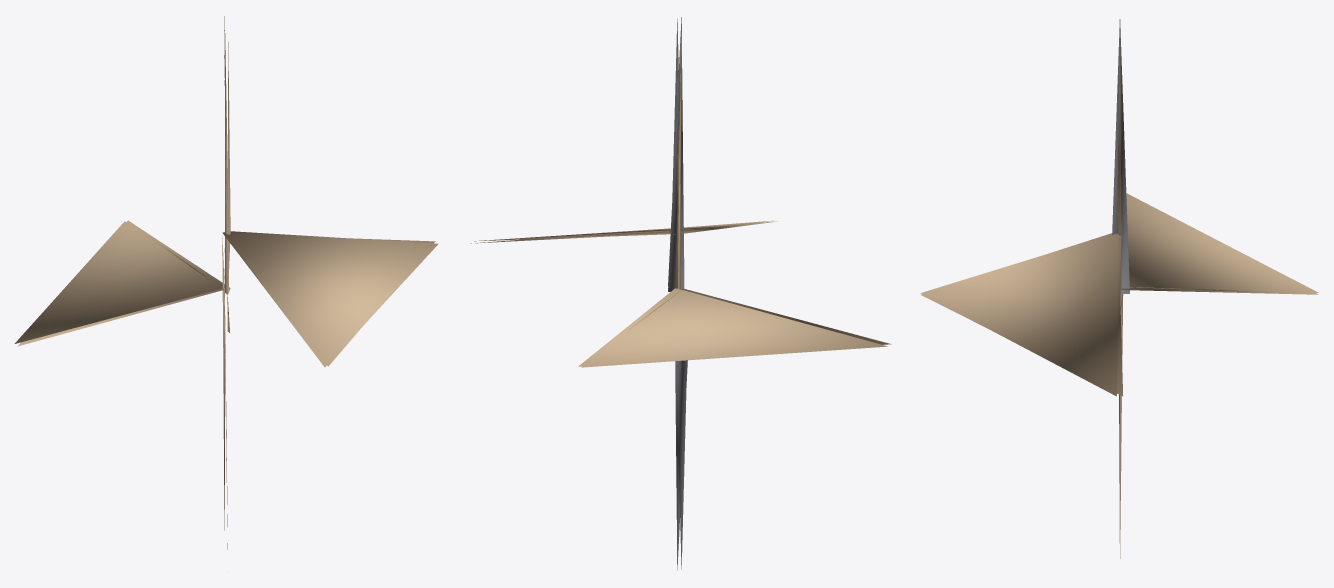
File: equip_weapon_bronze_longsword.glb
3 renders of one model, left to right at view 1: azimuth 30°, elevation 25°; view 2: azimuth 150°, elevation 25°; view 3: azimuth 270°, elevation 25°, orthographic.
Visible parts, largest first — view 1: equip_weapon_bronze_longsword; view 2: equip_weapon_bronze_longsword; view 3: equip_weapon_bronze_longsword.
Part boxes in pixels (x1,y1,x2,y2): equip_weapon_bronze_longsword: (14,16,438,549); equip_weapon_bronze_longsword: (470,17,891,570); equip_weapon_bronze_longsword: (920,19,1318,558).
Bounding box in the file's own units: 1.8 × 2.28 × 1.48.
